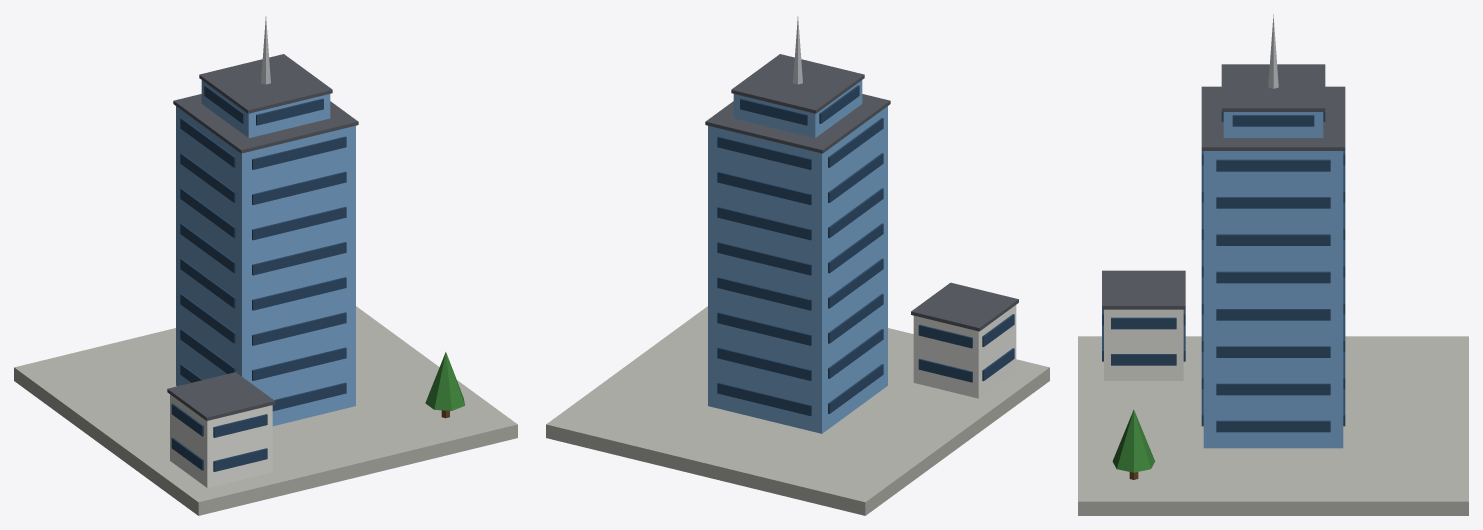
The model's file is finance_rent_3.glb.
3 renders of one model, left to right at view 1: azimuth 30°, elevation 25°; view 2: azimuth 150°, elevation 25°; view 3: azimuth 270°, elevation 25°, orthographic. The views are drawn at different scales.
Visible parts, largest first — view 1: finance_rent_3; view 2: finance_rent_3; view 3: finance_rent_3.
Part boxes in pixels (<box>): finance_rent_3: <box>14,16,517,515</box>; finance_rent_3: <box>546,16,1049,515</box>; finance_rent_3: <box>1078,14,1468,515</box>.
Size of the model in its own units: 1.96 by 2.32 by 1.96.
